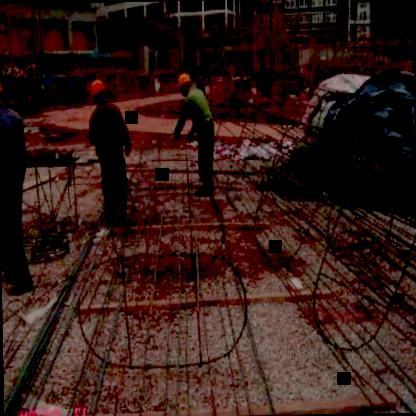helmet: (89, 77, 108, 107), (176, 70, 193, 98), (0, 70, 6, 112)
